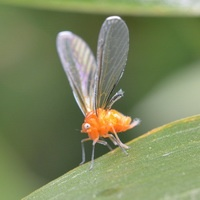insect: (56, 16, 140, 168)
